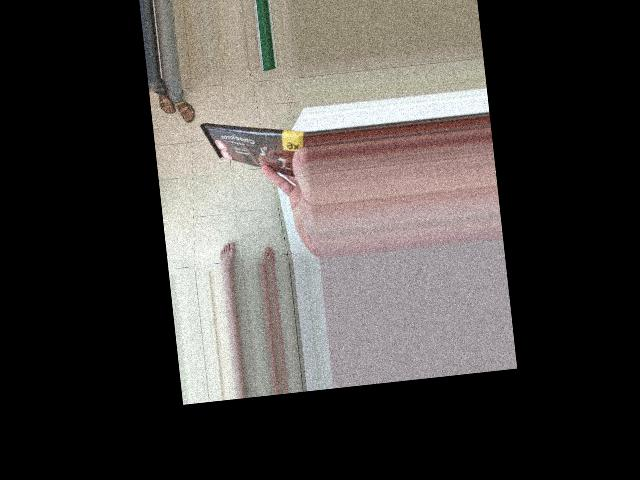chocolate: (197, 104, 313, 202)
